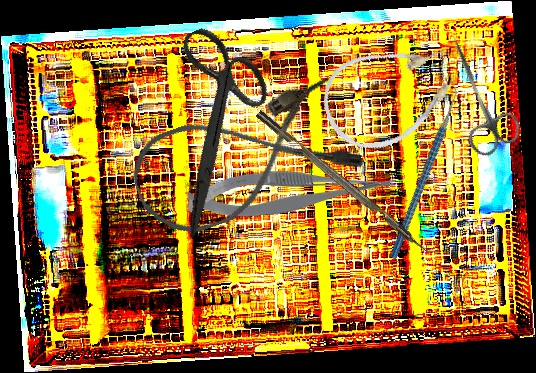Cannula: (121, 72, 367, 247), (311, 26, 470, 163)
Chopper: (337, 76, 509, 261), (255, 100, 443, 263)
Iris Scissors: (116, 13, 310, 238), (427, 27, 527, 161)
Micro Scissor: (188, 170, 395, 218)
